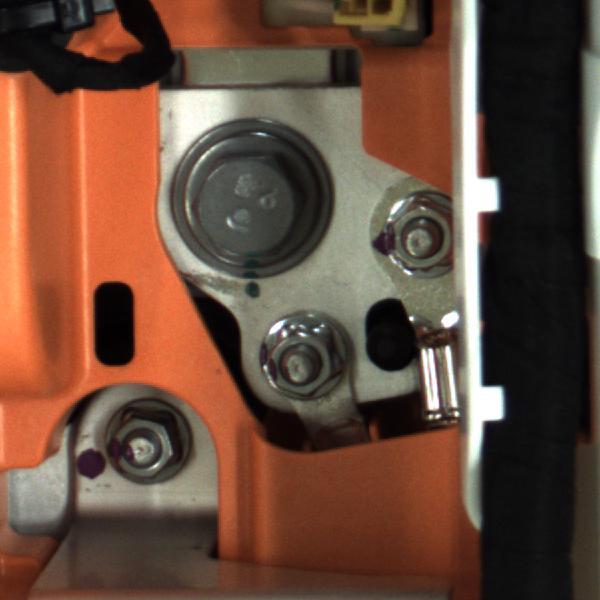nut_b: (165, 119, 339, 275)
screw_s: (99, 396, 202, 490), (255, 304, 349, 405), (375, 198, 453, 270)
